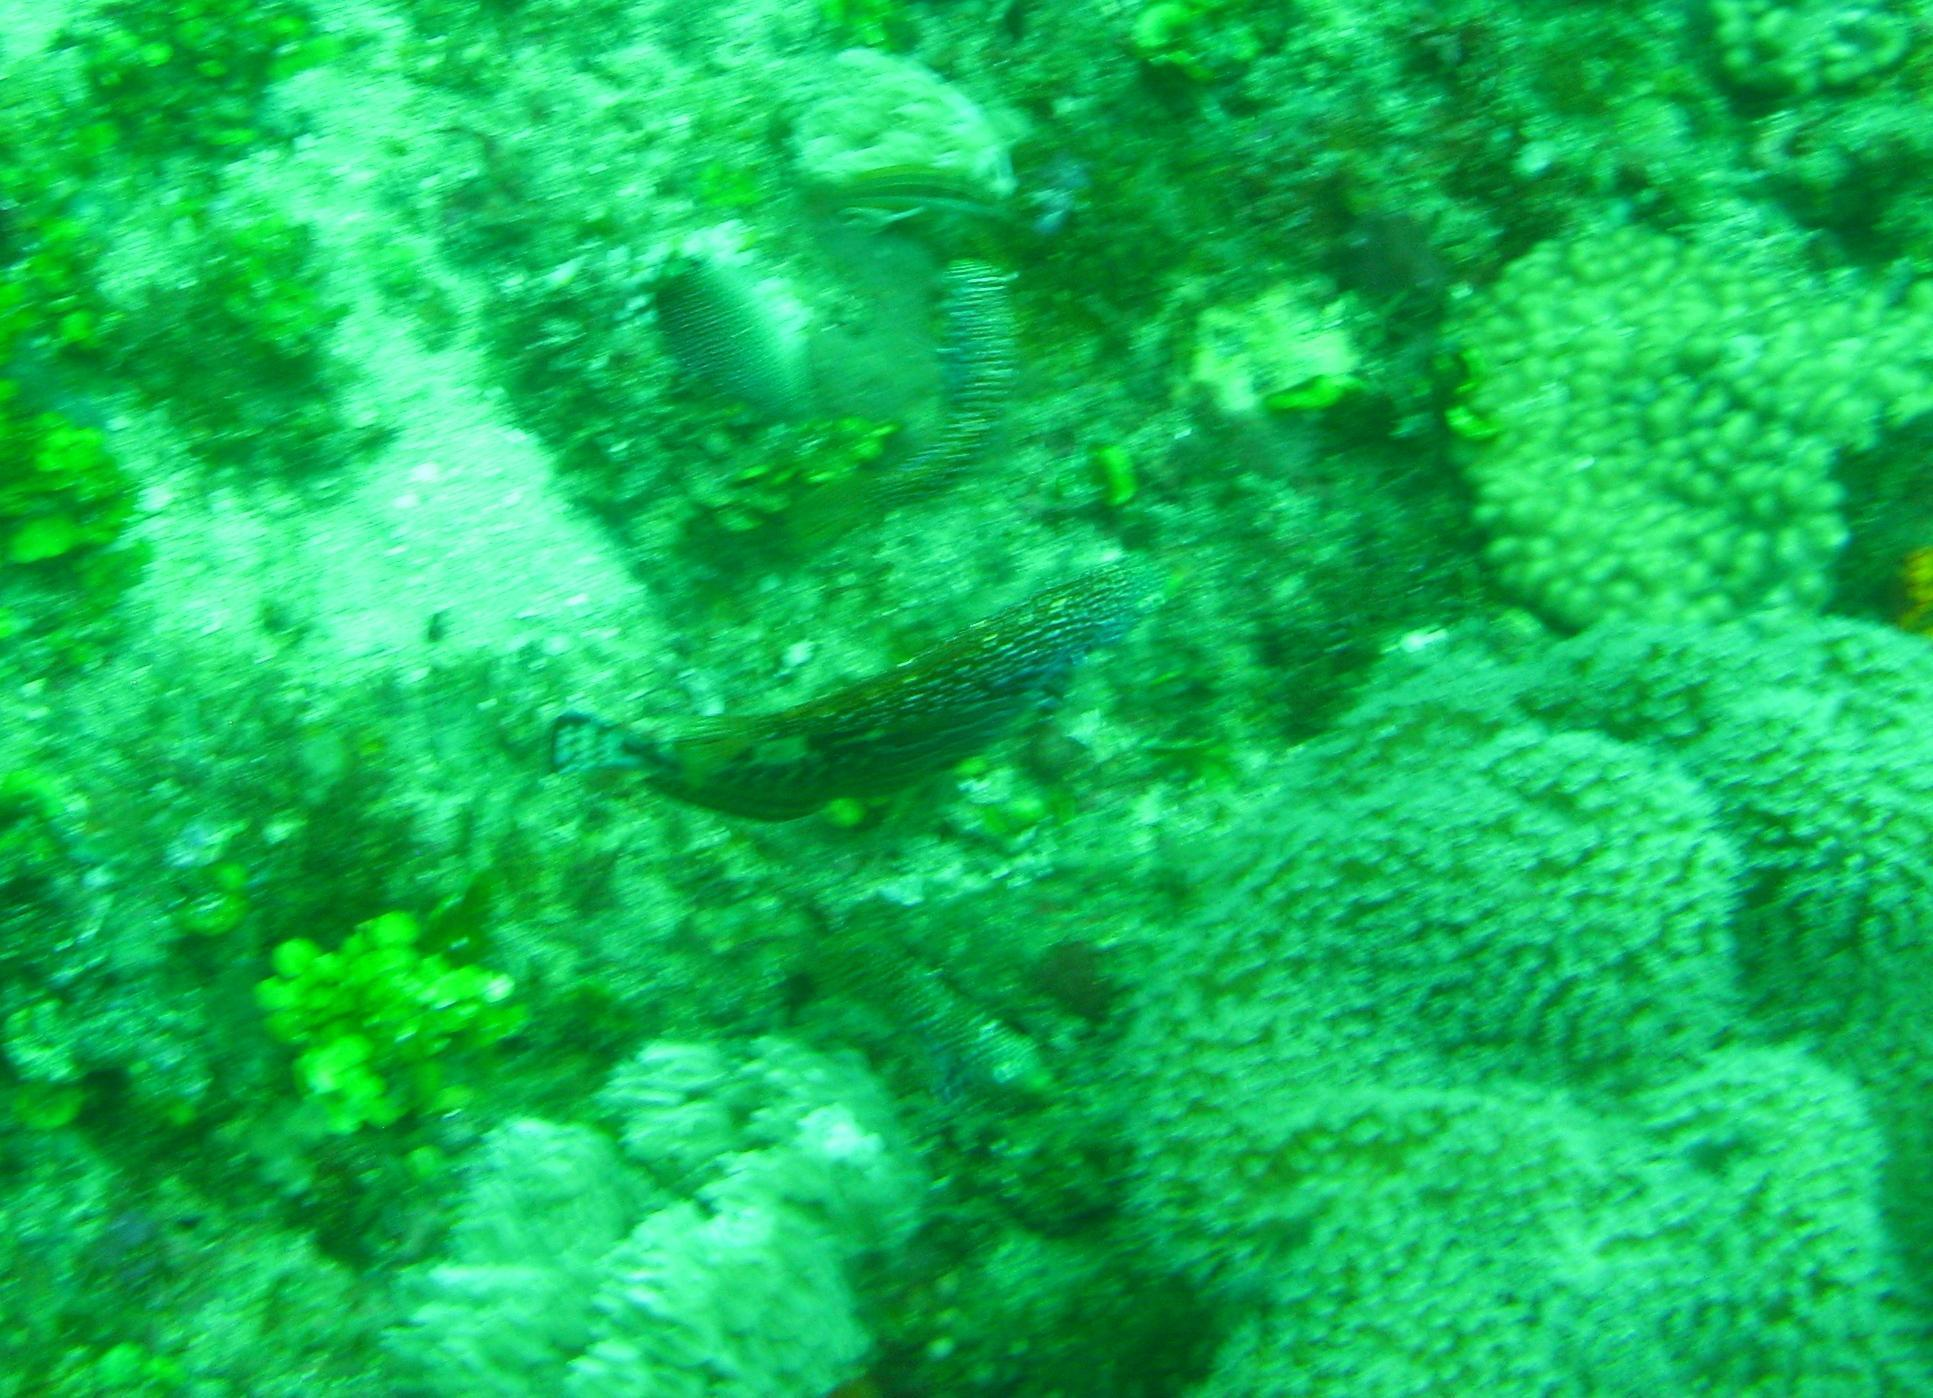Fish: (594, 522, 1189, 832)
